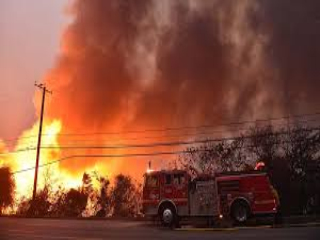fire: (6, 91, 90, 200)
smoke: (71, 7, 310, 150)
